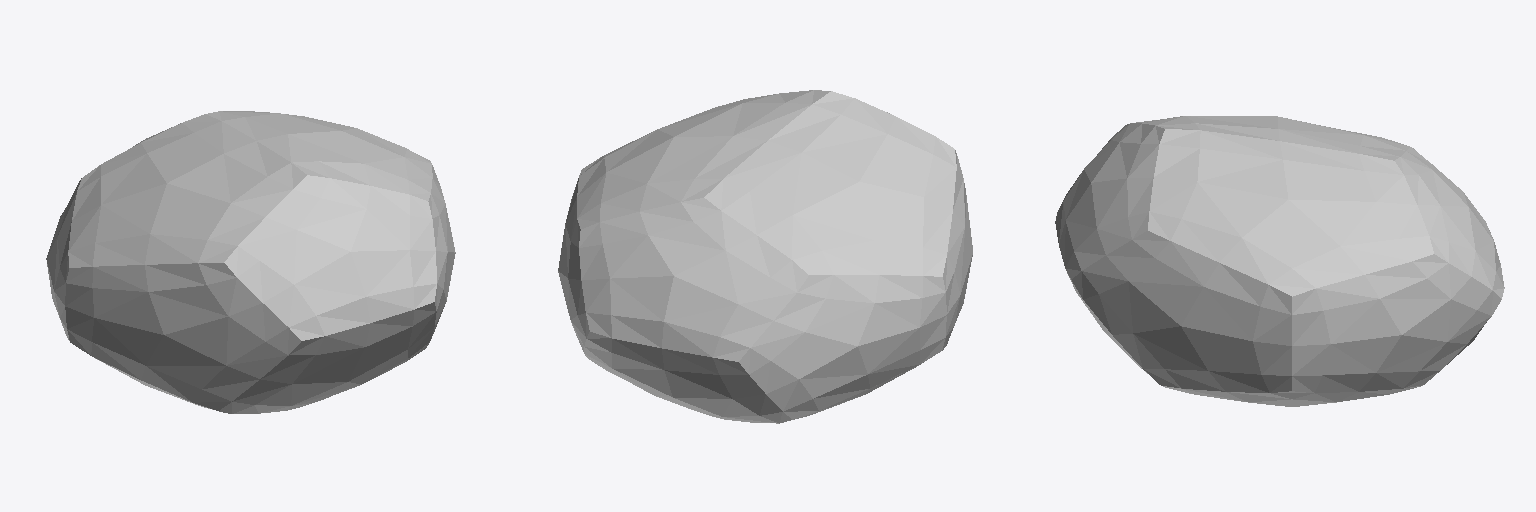
File: leavesHi.obj
The picture shows the model from 3 angles: view 1: azimuth 30°, elevation 25°; view 2: azimuth 150°, elevation 25°; view 3: azimuth 270°, elevation 25°; orthographic projection.
Visible parts, largest first — view 1: dodecahedron1; view 2: dodecahedron1; view 3: dodecahedron1.
Part boxes in pixels (bbox=[...]): dodecahedron1: bbox=[46, 111, 455, 413]; dodecahedron1: bbox=[558, 90, 972, 423]; dodecahedron1: bbox=[1055, 116, 1504, 406].
Size of the model in its own units: 4.14 by 2.66 by 4.36.